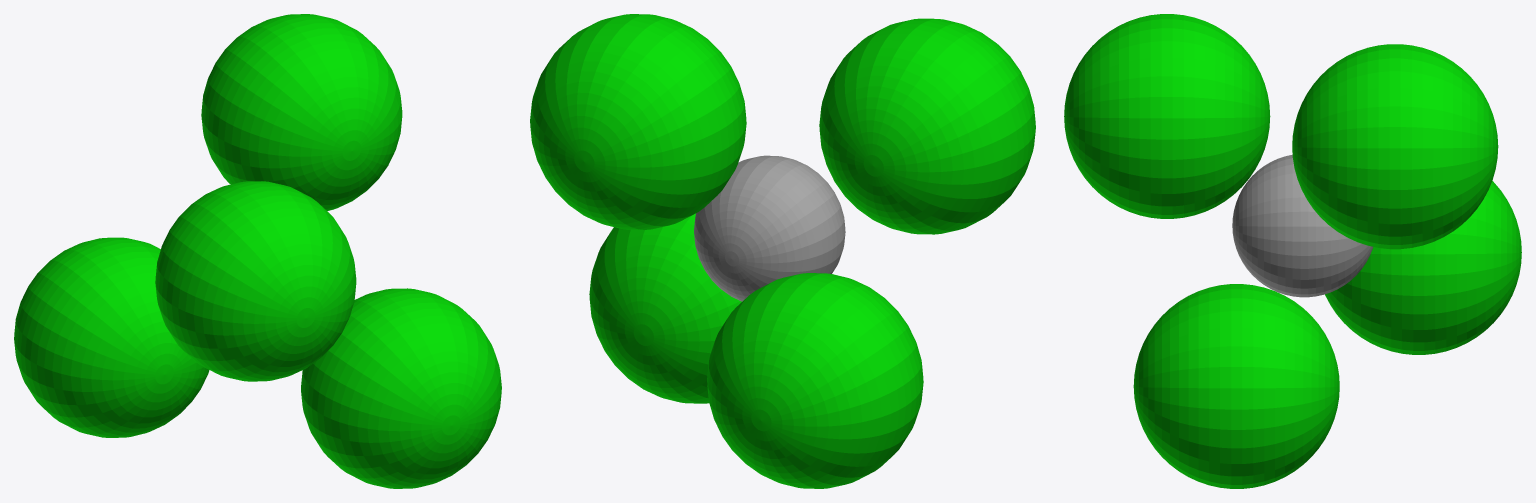
Rendered from Carbon Tetrachloride.glb.
3 views of the same model, side by side, from view 1: azimuth 30°, elevation 25°; view 2: azimuth 150°, elevation 25°; view 3: azimuth 270°, elevation 25° (orthographic). The views are drawn at different scales.
Parts seen in each view (by area): view 1: world; view 2: world; view 3: world.
Part boxes in pixels (x1,y1,x2,y2): world: (14,14,501,488); world: (530,14,1035,488); world: (1064,14,1521,488).
Size of the model in its own units: 4.27 by 4.44 by 4.44.
